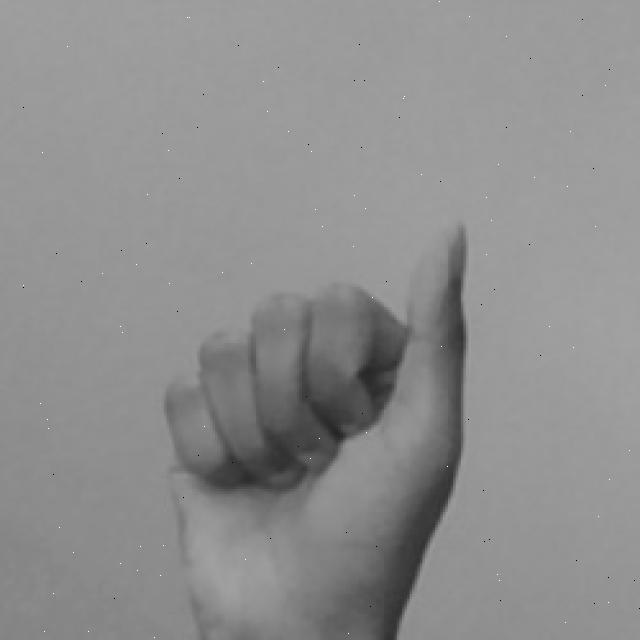A: (147, 210, 493, 640)
